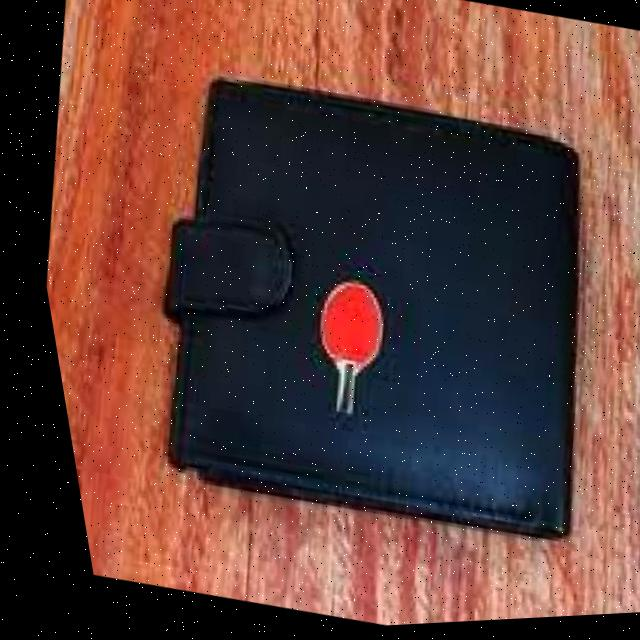cuzdan: (11, 41, 634, 602)
